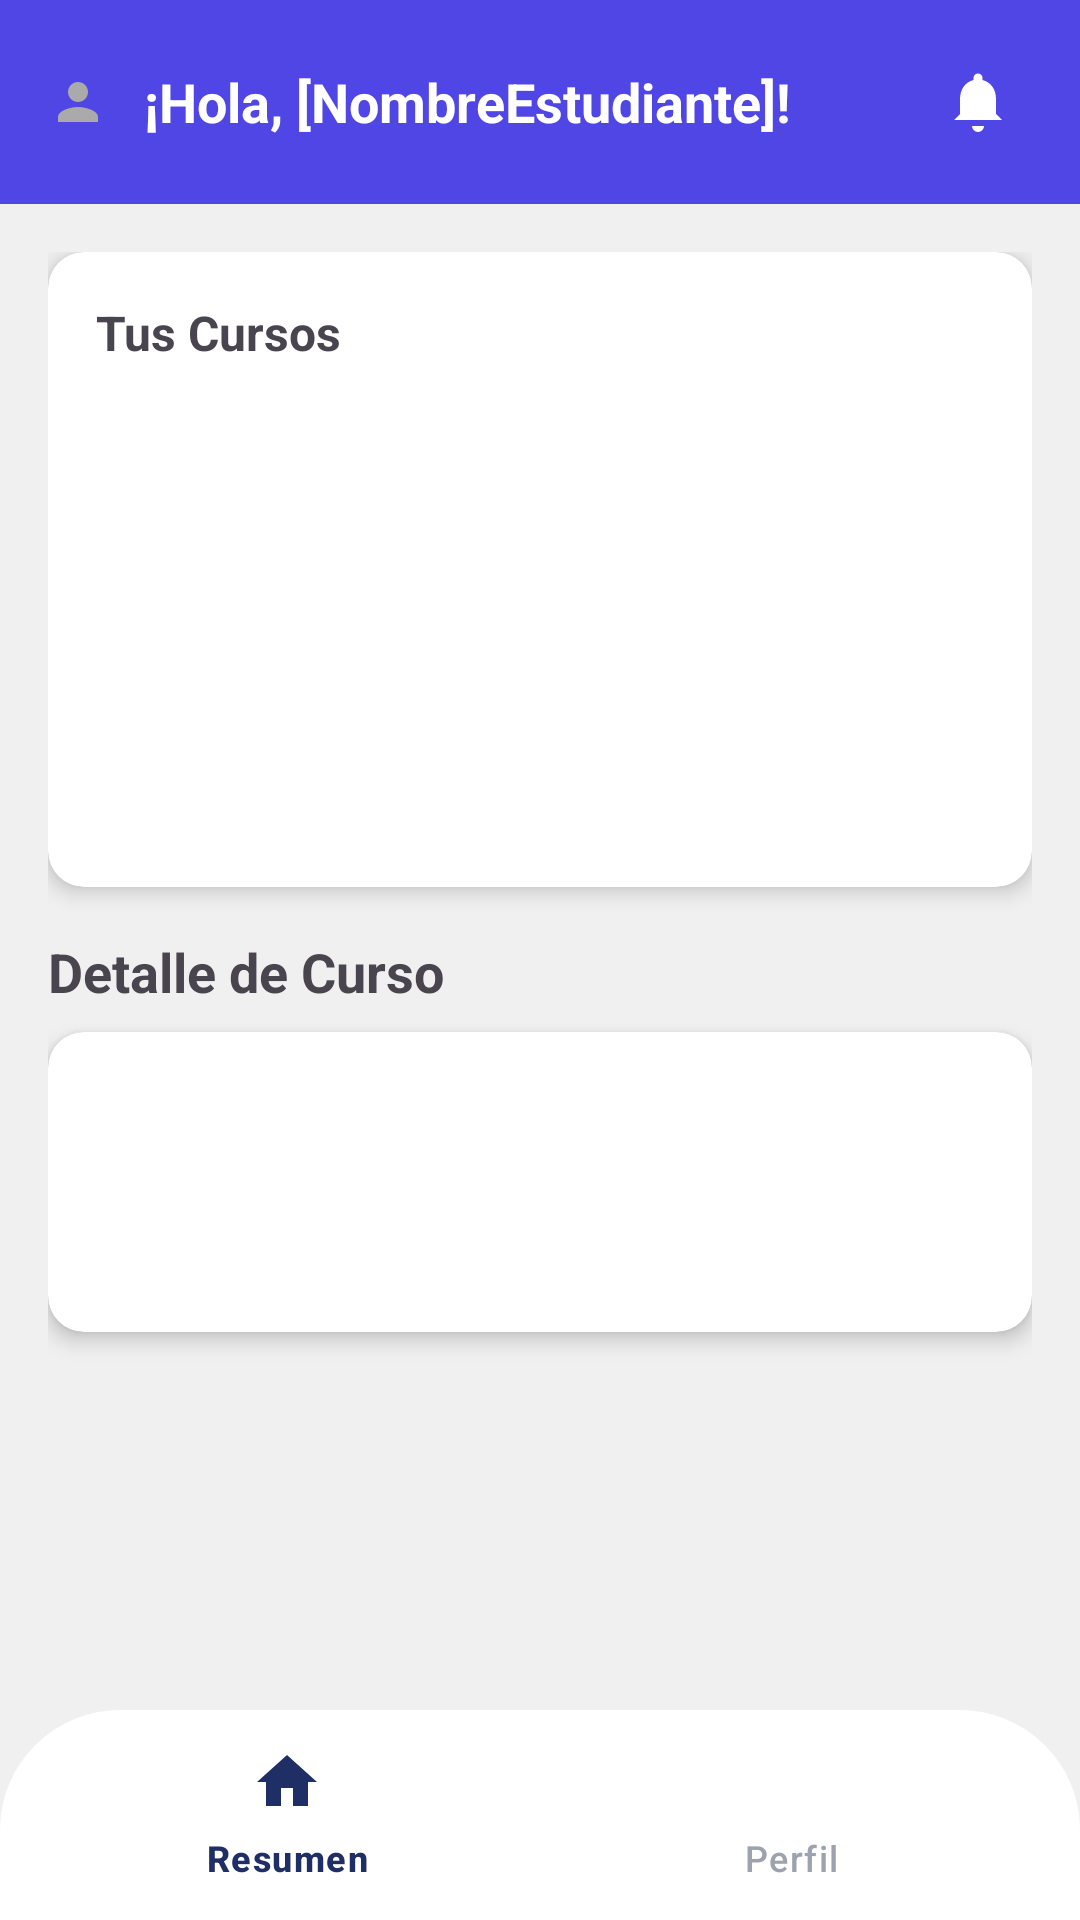

Icon click points for this 1080px×1920px phone screenshot, format (x=x, y=y):
Notificaciones: (x=978, y=102)
